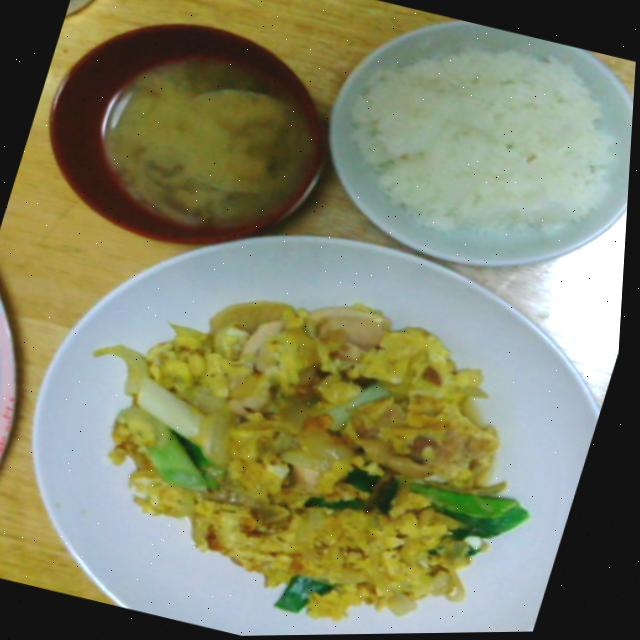米饭主食: (71, 258, 572, 639), (323, 8, 639, 272)
